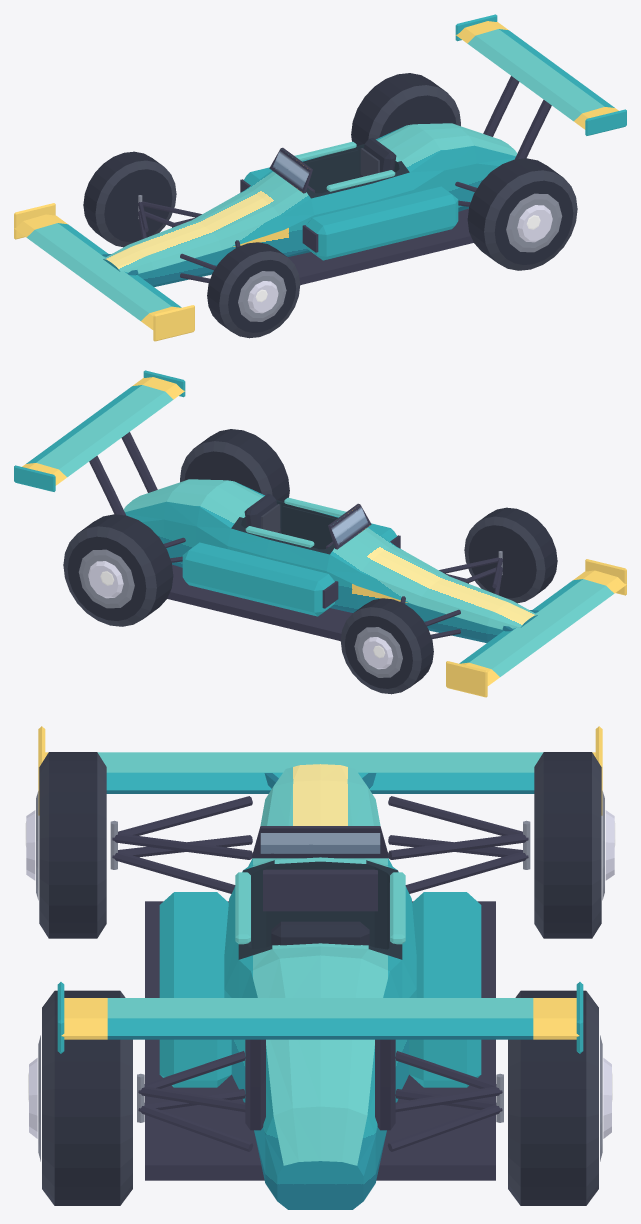
File: open-wheel-racer-v1.glb
The picture shows the model from 3 angles, top to bottom: view 1: azimuth 30°, elevation 25°; view 2: azimuth 150°, elevation 25°; view 3: azimuth 270°, elevation 25°; orthographic projection. The views are drawn at different scales.
Parts seen in each view (by area): view 1: Body_static, Wheel_RL_tire_hub, Wheel_FL_tire_hub, Wheel_FR_tire_hub, Wheel_RR_tire_hub; view 2: Body_static, Wheel_RR_tire_hub, Wheel_FR_tire_hub, Wheel_FL_tire_hub, Wheel_RL_tire_hub; view 3: Body_static, Wheel_RL_tire_hub, Wheel_RR_tire_hub, Wheel_FL_tire_hub, Wheel_FR_tire_hub.
Boxes of the visible parts, x1=… form: Body_static: x1=14, y1=14, x2=626, y2=341; Wheel_RL_tire_hub: x1=467, y1=158, x2=577, y2=270; Wheel_FL_tire_hub: x1=207, y1=242, x2=300, y2=338; Wheel_FR_tire_hub: x1=83, y1=151, x2=176, y2=247; Wheel_RR_tire_hub: x1=351, y1=73, x2=460, y2=145; Body_static: x1=14, y1=370, x2=626, y2=697; Wheel_RR_tire_hub: x1=63, y1=514, x2=173, y2=626; Wheel_FR_tire_hub: x1=340, y1=598, x2=433, y2=694; Wheel_FL_tire_hub: x1=464, y1=507, x2=557, y2=603; Wheel_RL_tire_hub: x1=180, y1=429, x2=289, y2=501; Body_static: x1=38, y1=726, x2=602, y2=1209; Wheel_RL_tire_hub: x1=28, y1=990, x2=132, y2=1205; Wheel_RR_tire_hub: x1=508, y1=990, x2=612, y2=1205; Wheel_FL_tire_hub: x1=25, y1=752, x2=106, y2=938; Wheel_FR_tire_hub: x1=534, y1=752, x2=615, y2=938.
Bounding box in the file's own units: 80 × 21.65 × 42.68.
Materials: 1 (1 with a texture image).
